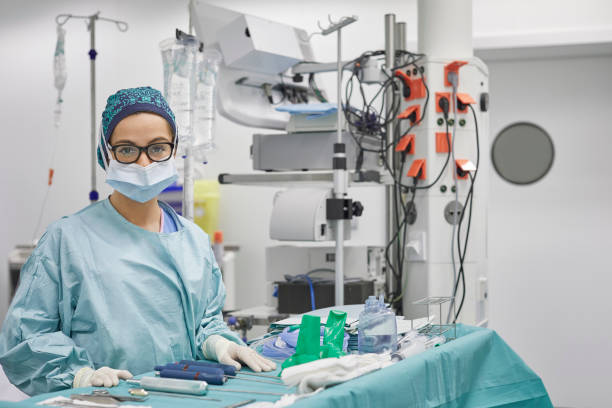iv_pole: (52, 15, 131, 206), (295, 12, 359, 202), (160, 32, 222, 221)
staff: (2, 84, 274, 398)
surgical_instrument: (35, 297, 477, 408)
utility_cart: (1, 323, 496, 408)
